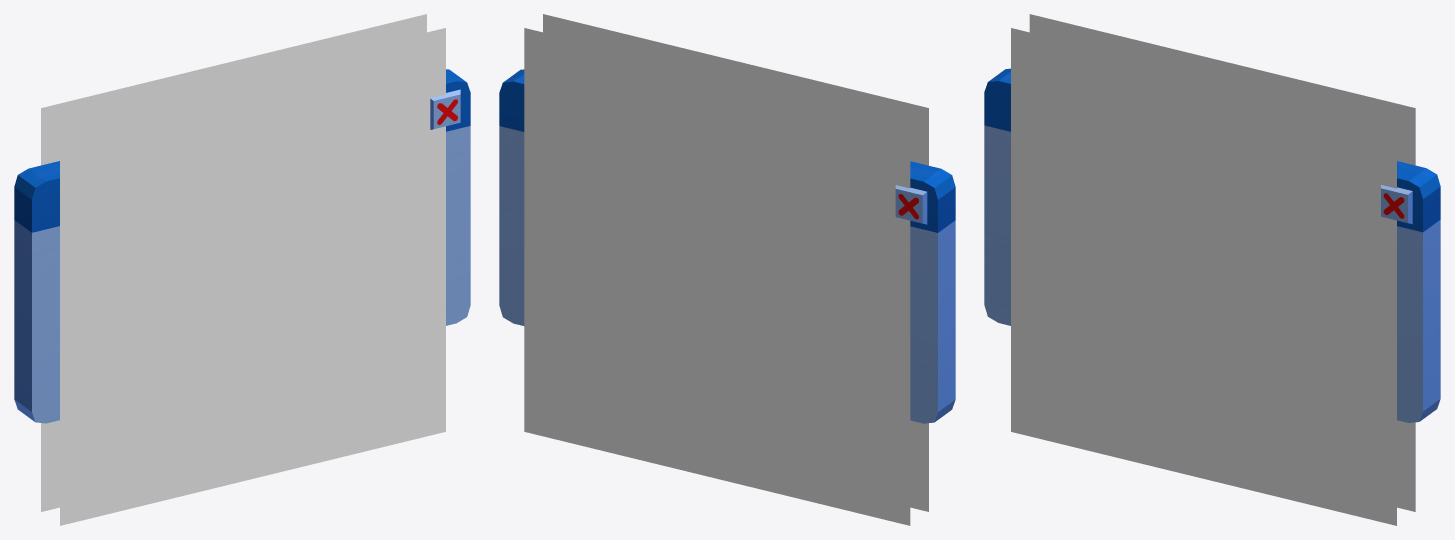
The model's file is SM_BlueScreen.fbx.
The picture shows the model from 3 angles, left to right: view 1: azimuth 30°, elevation 25°; view 2: azimuth 150°, elevation 25°; view 3: azimuth 330°, elevation 25°; orthographic projection.
Visible parts, largest first — view 1: SM_BlueScreen; view 2: SM_BlueScreen; view 3: SM_BlueScreen.
Part boxes in pixels (bbox=[...]): SM_BlueScreen: bbox=[14, 14, 470, 525]; SM_BlueScreen: bbox=[499, 14, 955, 525]; SM_BlueScreen: bbox=[984, 14, 1440, 525].
Bounding box in the file's own units: 83.64 × 73.58 × 7.78.
